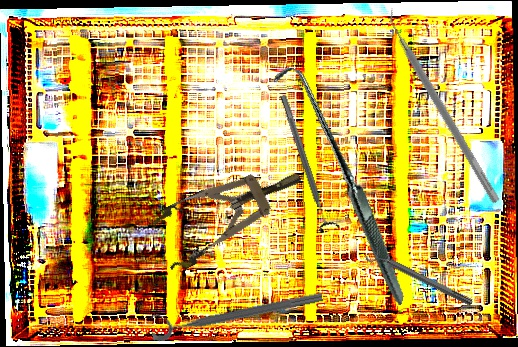Fixation Ring: (147, 278, 325, 343), (272, 91, 341, 235), (363, 242, 476, 313)
Hook Surgical: (224, 64, 456, 306)
Spatula Surgical: (378, 5, 509, 205)
Speculum: (145, 149, 315, 275)
